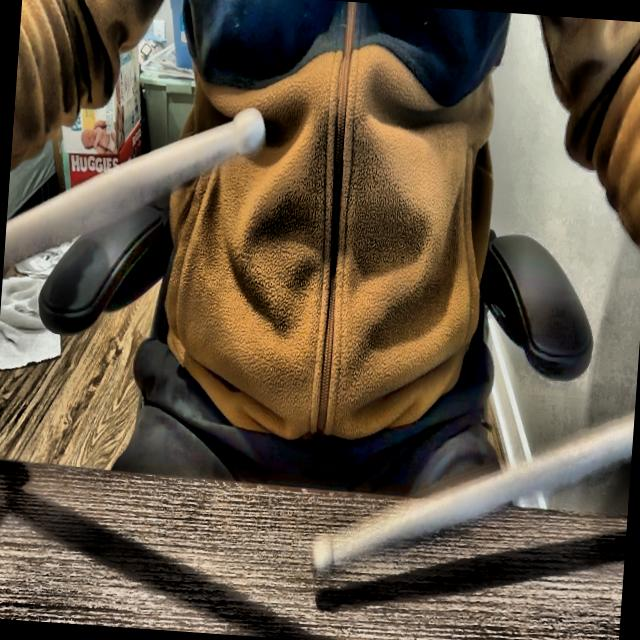Drumstick-Heads: (224, 104, 272, 160), (304, 524, 338, 587)
